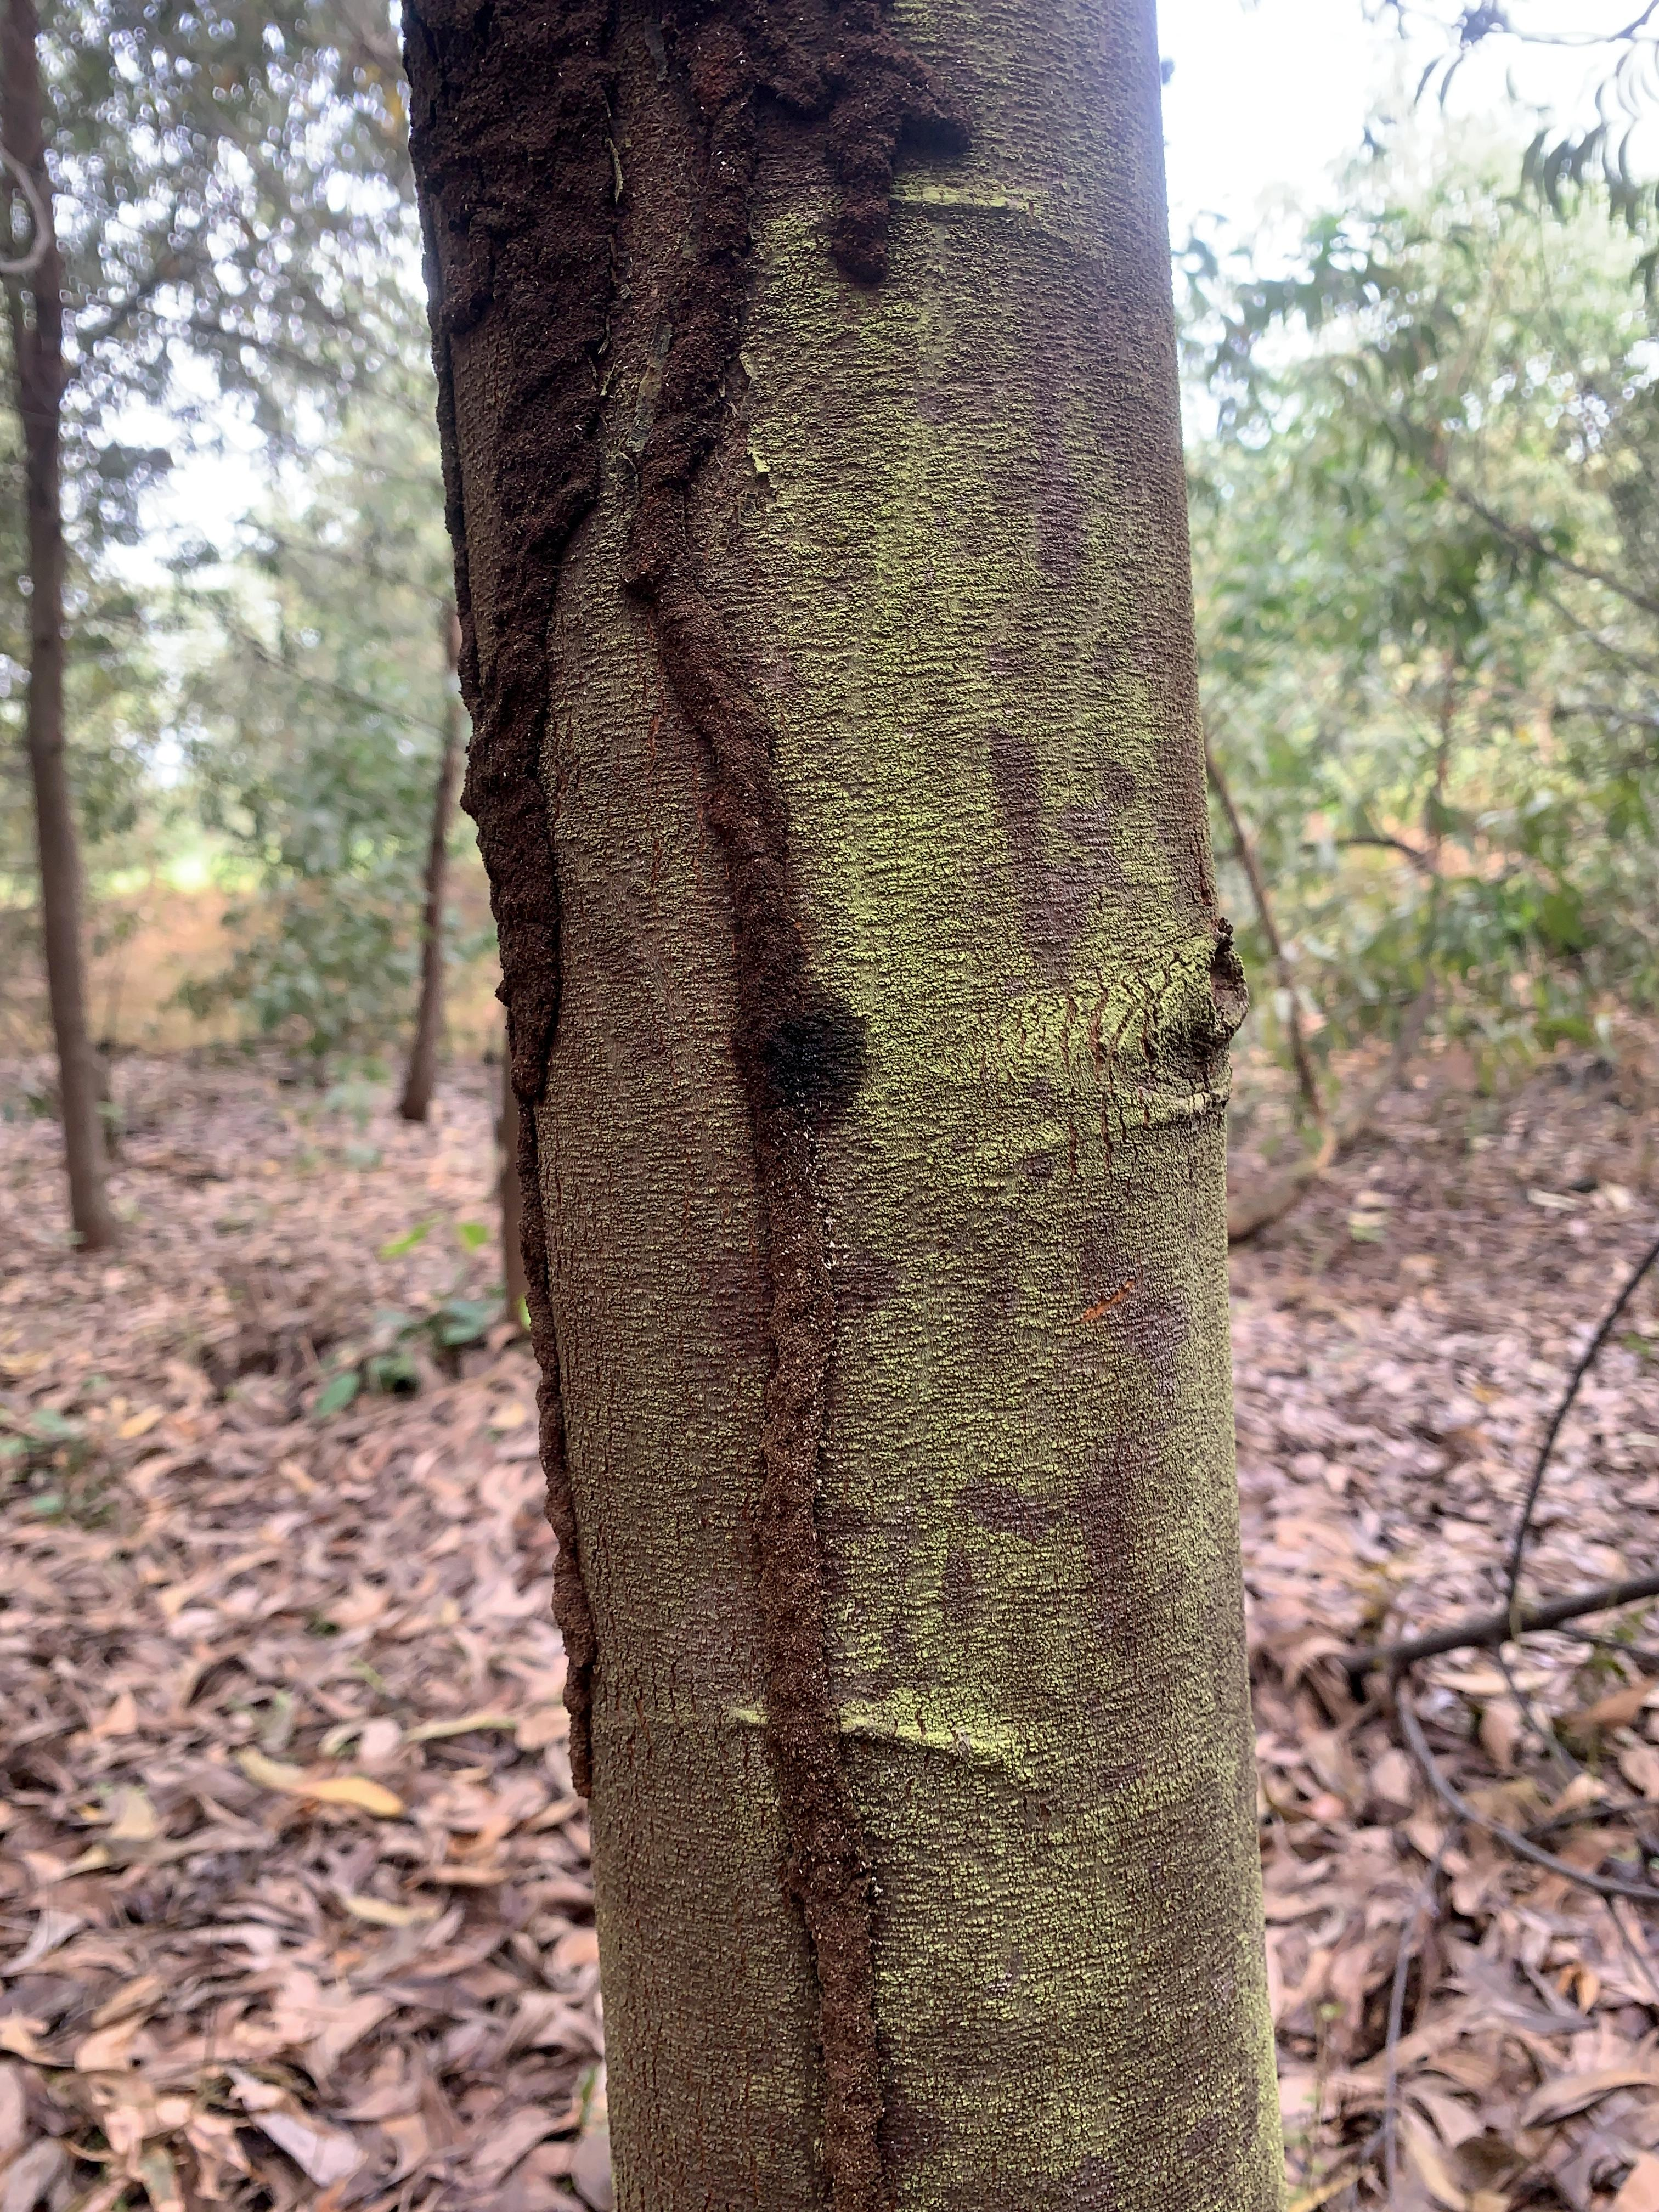Termite - Nest: (434, 0, 946, 1143)
